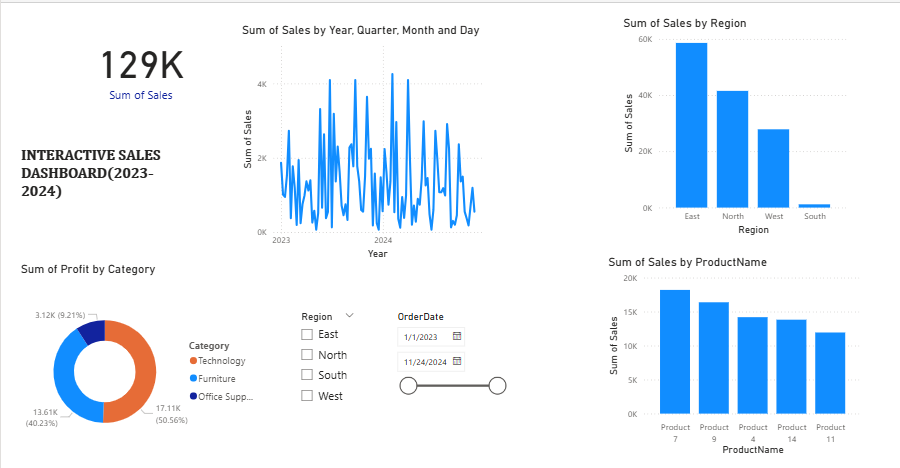

This screenshot's page, from the dashboard's own definition file:
{"tool":"powerbi","page":{"name":"Page 1","canvas":[1280,720],"ordinal":0},"visuals":[{"type":"card","title":"Total Sales","fields":{"Values":["Sum(Orders.Sales)"]},"box":[106.7,86.8,184.9,126.6],"z":0},{"type":"lineChart","fields":{"Y":["Sum(Orders.Sales)"],"Category":["Orders.OrderDate.Variation.Date Hierarchy.Year","Orders.OrderDate.Variation.Date Hierarchy.Quarter","Orders.OrderDate.Variation.Date Hierarchy.Month","Orders.OrderDate.Variation.Date Hierarchy.Day"]},"box":[338.5,86.8,354.1,341.3],"z":1000},{"type":"clusteredColumnChart","title":"Sum of Sales by Region","fields":{"Category":["Customers.Region"],"Y":["Sum(Orders.Sales)"]},"box":[880.4,76.8,330,317.2],"z":2000},{"type":"clusteredColumnChart","fields":{"Category":["Products.ProductName"],"Y":["Sum(Orders.Sales)"]},"box":[859,416.7,371.2,291.6],"z":3000},{"type":"donutChart","fields":{"Category":["Products.Category"],"Y":["Sum(Orders.Profit)"]},"box":[22.8,426.7,352.7,293],"z":4000},{"type":"slicer","fields":{"Values":["Customers.Region"]},"box":[415.3,492.1,101,162.1],"z":5000},{"type":"slicer","fields":{"Values":["Orders.OrderDate"]},"box":[551.8,492.1,176.4,162.1],"z":6000},{"type":"textbox","box":[23.1,258.1,227.8,101.4],"z":6001}]}

Visuals, with their boxes on the page's 1280x720 design canvas (x1, y1, x2, y2). These are canvas units, not pixel positions in the 900x468 screenshot, which may show the page scaled, cropped or inside an application window:
"Total Sales" card: detection(107, 87, 292, 213)
lineChart - Sum(Orders.Sales) x Orders.OrderDate.Variation.Date Hierarchy.Year: detection(338, 87, 693, 428)
"Sum of Sales by Region" clusteredColumnChart: detection(880, 77, 1210, 394)
clusteredColumnChart - Products.ProductName x Sum(Orders.Sales): detection(859, 417, 1230, 708)
donutChart - Products.Category x Sum(Orders.Profit): detection(23, 427, 376, 720)
slicer - Customers.Region: detection(415, 492, 516, 654)
slicer - Orders.OrderDate: detection(552, 492, 728, 654)
textbox: detection(23, 258, 251, 360)
